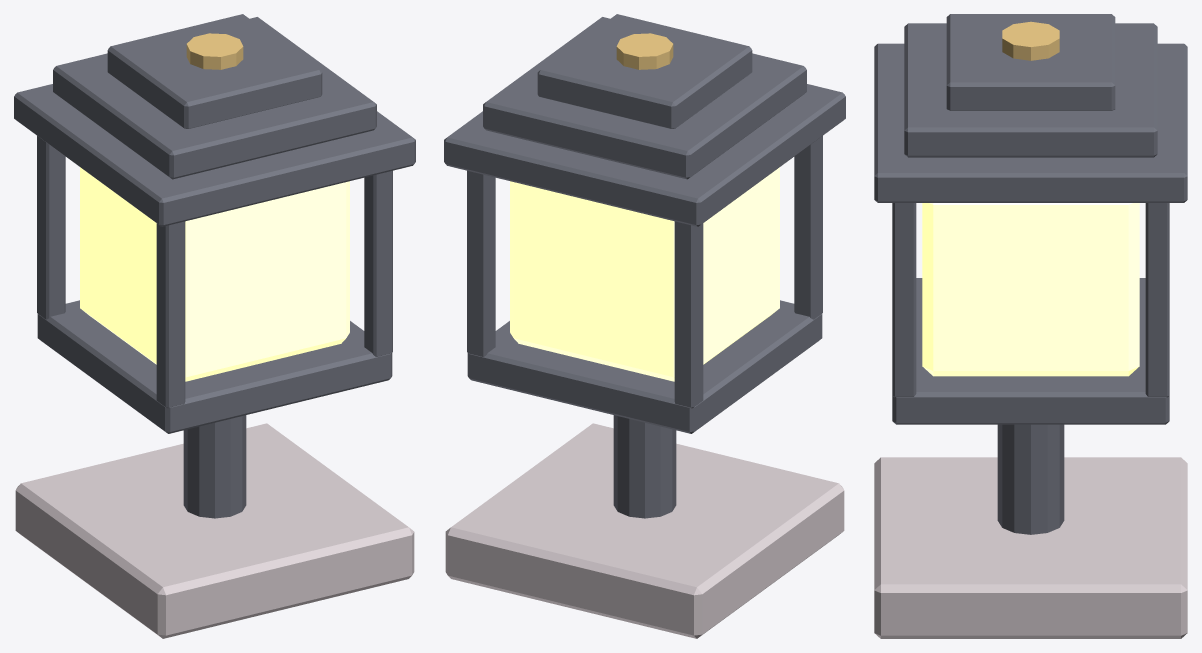
Rendered from grave_lantern_post.glb.
3 renders of one model, left to right at view 1: azimuth 30°, elevation 25°; view 2: azimuth 150°, elevation 25°; view 3: azimuth 270°, elevation 25°, orthographic. The views are drawn at different scales.
Size of the model in its own units: 0.52 by 0.99 by 0.52.
